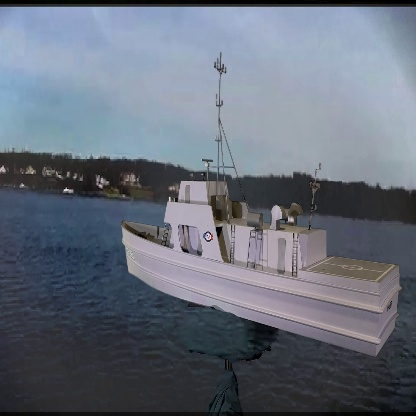YP689: (120, 57, 401, 356)
